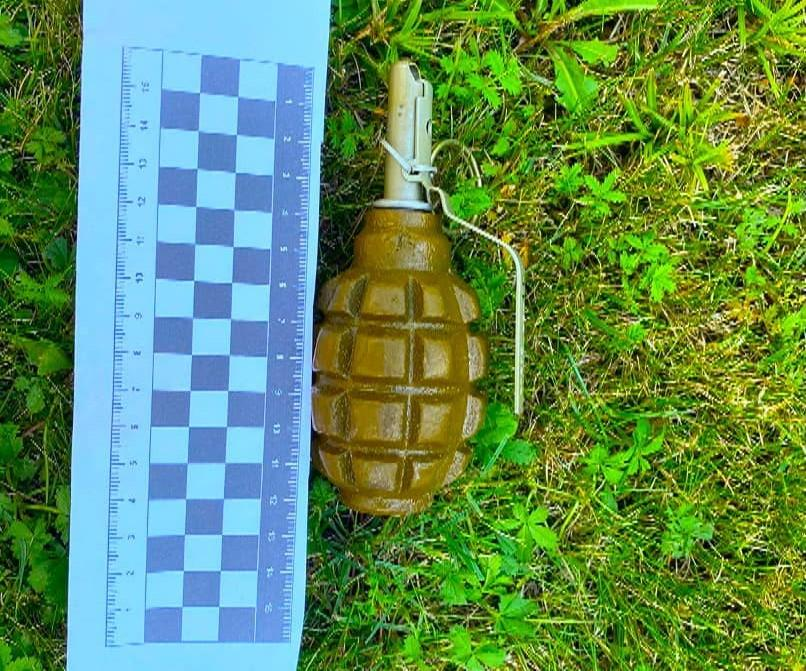F1: (310, 61, 529, 517)
